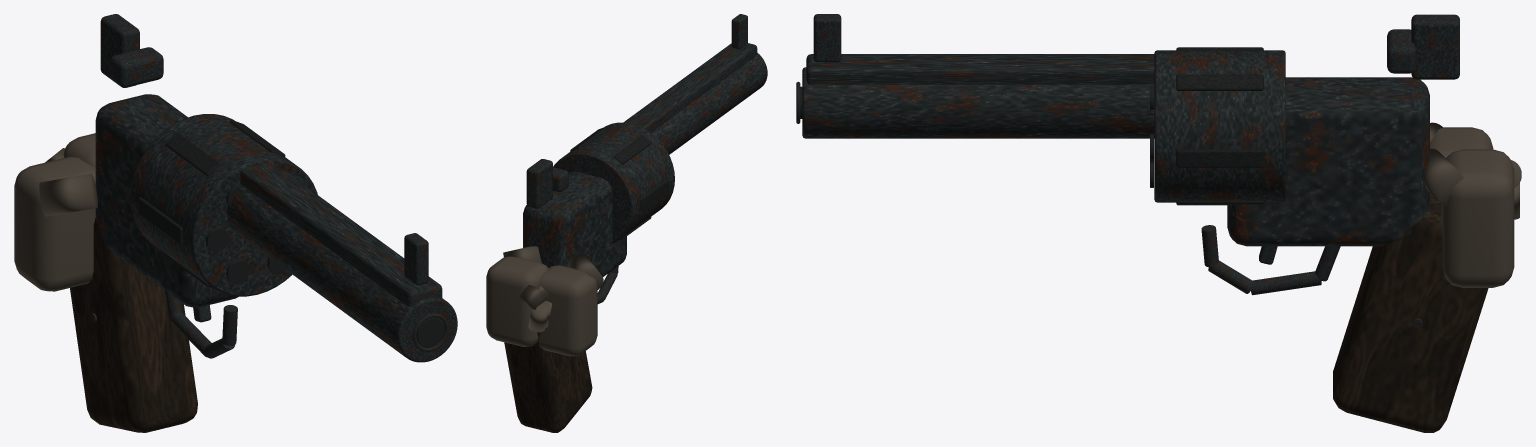
Rendered from revolver.glb.
3 views of the same model, side by side, from view 1: azimuth 30°, elevation 25°; view 2: azimuth 150°, elevation 25°; view 3: azimuth 270°, elevation 25° (orthographic). The views are drawn at different scales.
Parts seen in each view (by area): view 1: Walnut revolver grip, Six shot cylinder, Forged barrel, Rounded revolver frame, gloved palm.010, Barrel upper rib, thumb.010, Rear notch sight, Raised hammer, Front blade sight, Cylinder flute.002, Cylinder flute.003 (+8 smaller); view 2: Rounded revolver frame, Six shot cylinder, Walnut revolver grip, gloved palm.010, gloved palm.009, Forged barrel, Barrel upper rib, Raised hammer, Front blade sight, thumb.010, curled finger distal.039, Cylinder flute.002 (+4 smaller); view 3: Rounded revolver frame, Walnut revolver grip, Forged barrel, Six shot cylinder, Barrel upper rib, gloved palm.009, Raised hammer, Cylinder flute, Cylinder flute.001, Front blade sight, gloved palm.010, thumb.009 (+2 smaller).
Boxes of the visible parts, bbox=[...] form: Walnut revolver grip: bbox=[70, 218, 197, 432]; Six shot cylinder: bbox=[130, 114, 317, 296]; Forged barrel: bbox=[227, 184, 457, 362]; Rounded revolver frame: bbox=[95, 94, 238, 307]; gloved palm.010: bbox=[14, 156, 95, 291]; Barrel upper rib: bbox=[240, 161, 442, 306]; thumb.010: bbox=[39, 173, 97, 216]; Rear notch sight: bbox=[110, 47, 163, 87]; Raised hammer: bbox=[100, 14, 139, 87]; Front blade sight: bbox=[404, 233, 428, 285]; Cylinder flute.002: bbox=[165, 133, 220, 176]; Cylinder flute.003: bbox=[138, 197, 182, 244]; Rounded revolver frame: bbox=[523, 171, 626, 276]; Six shot cylinder: bbox=[553, 122, 674, 242]; Walnut revolver grip: bbox=[504, 332, 592, 432]; gloved palm.010: bbox=[538, 265, 597, 356]; gloved palm.009: bbox=[486, 256, 548, 346]; Forged barrel: bbox=[651, 53, 767, 154]; Barrel upper rib: bbox=[623, 43, 757, 132]; Raised hammer: bbox=[526, 159, 552, 208]; Front blade sight: bbox=[731, 14, 747, 49]; thumb.010: bbox=[567, 253, 603, 289]; curled finger distal.039: bbox=[528, 301, 549, 332]; Cylinder flute.002: bbox=[613, 135, 651, 164]; Rounded revolver frame: bbox=[1227, 77, 1429, 246]; Walnut revolver grip: bbox=[1333, 198, 1488, 432]; Forged barrel: bbox=[802, 67, 1154, 138]; Six shot cylinder: bbox=[1154, 50, 1285, 202]; Barrel upper rib: bbox=[806, 54, 1154, 84]; gloved palm.009: bbox=[1441, 149, 1514, 287]; Raised hammer: bbox=[1411, 14, 1459, 79]; Cylinder flute: bbox=[1176, 149, 1263, 167]; Cylinder flute.001: bbox=[1176, 74, 1263, 90]; Front blade sight: bbox=[813, 14, 841, 62]; gloved palm.010: bbox=[1430, 127, 1493, 157]; thumb.009: bbox=[1424, 148, 1463, 207].
Bounding box in the file's own units: 0.1119 × 0.2761 × 0.4473.
Materials: 5 (3 with a texture image).
